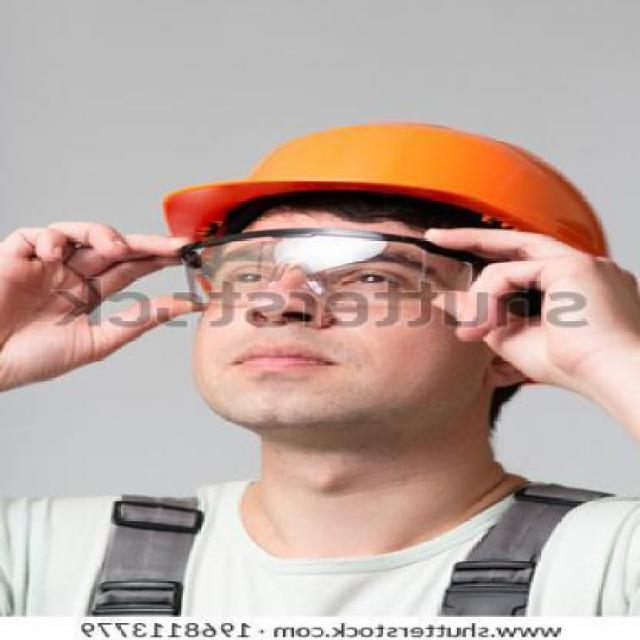Goggles: (166, 220, 488, 329)
